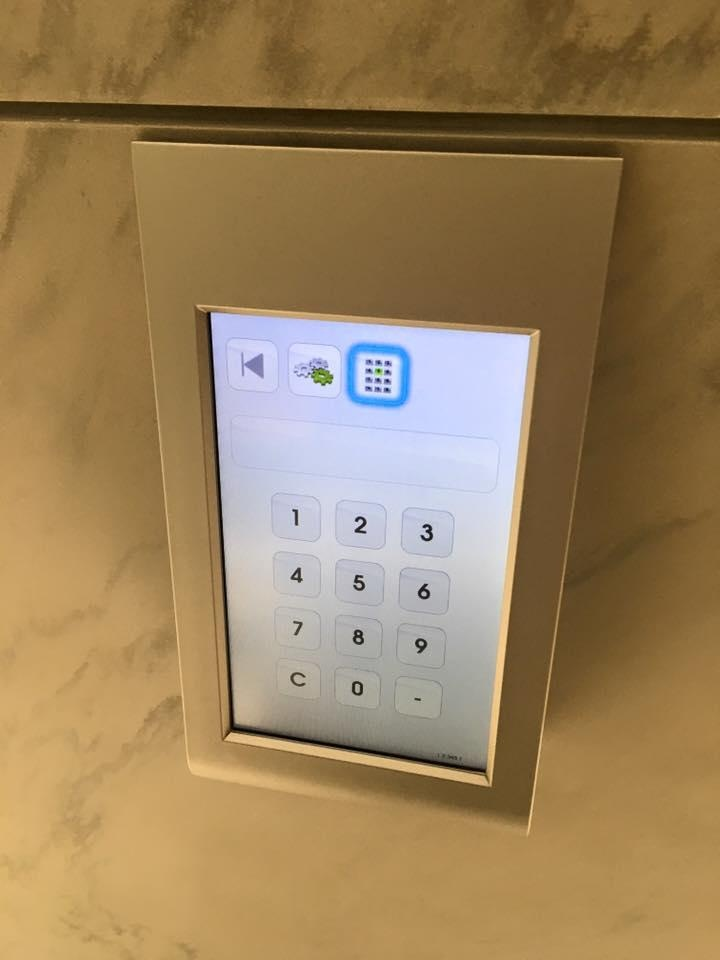-: (394, 676, 443, 719)
0: (334, 667, 380, 710)
1: (269, 491, 321, 541)
2: (331, 497, 387, 550)
3: (396, 503, 456, 560)
4: (272, 552, 323, 597)
5: (334, 559, 384, 604)
6: (398, 565, 452, 616)
7: (272, 607, 321, 649)
8: (335, 614, 382, 656)
9: (396, 623, 446, 667)
C: (275, 658, 320, 699)
unknown: (348, 342, 407, 405), (287, 343, 341, 398), (226, 338, 279, 391)
